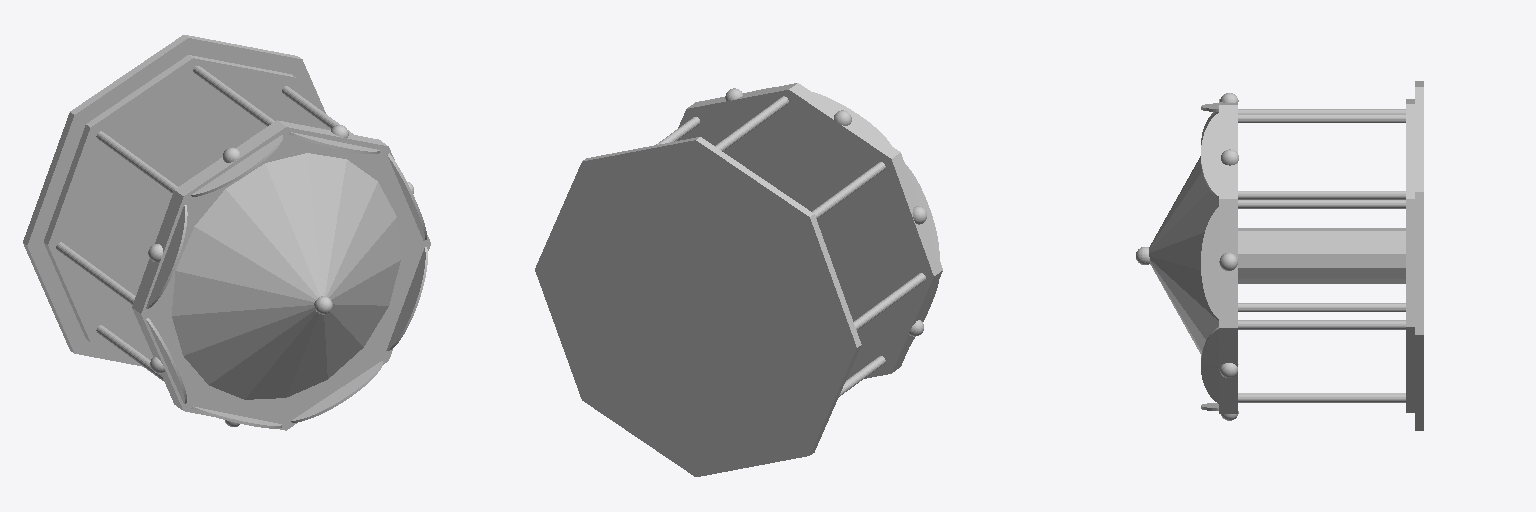
The model's file is carousell.obj.
3 renders of one model, left to right at view 1: azimuth 30°, elevation 25°; view 2: azimuth 150°, elevation 25°; view 3: azimuth 270°, elevation 25°, orthographic.
Parts seen in each view (by area): view 1: obj_0; view 2: obj_0; view 3: obj_0.
Part boxes in pixels (x1,y1,x2,y2): obj_0: (23, 35, 430, 430); obj_0: (535, 83, 942, 476); obj_0: (1136, 81, 1423, 430).
Size of the model in its own units: 40 by 40 by 31.